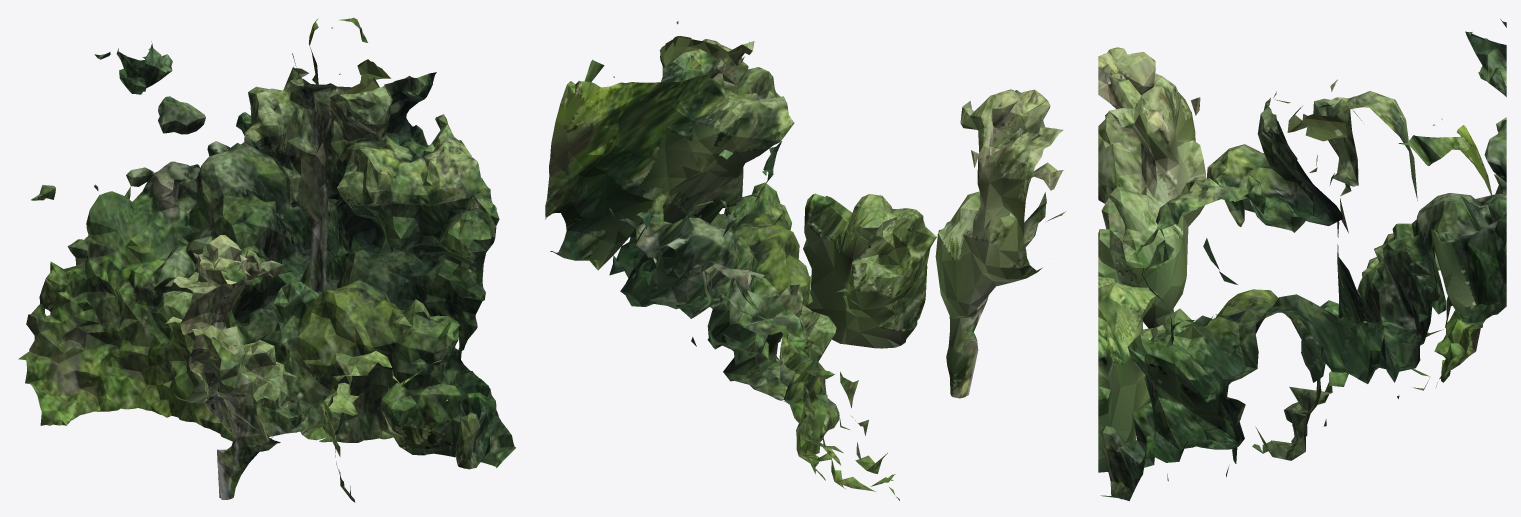
3 renders of one model, left to right at view 1: azimuth 30°, elevation 25°; view 2: azimuth 150°, elevation 25°; view 3: azimuth 270°, elevation 25°, orthographic. The views are drawn at different scales.
Size of the model in its own units: 26.11 by 26.11 by 26.11.
Materials: 8 (8 with a texture image).
